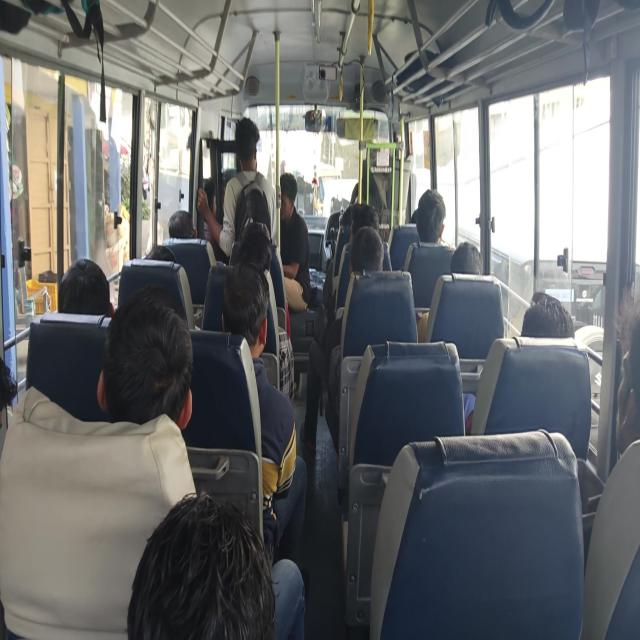person: (135, 493, 326, 640), (119, 298, 208, 429), (276, 178, 328, 282), (615, 323, 640, 490), (214, 282, 268, 350), (64, 266, 115, 338), (414, 182, 448, 270), (352, 230, 398, 276), (528, 298, 564, 354), (244, 242, 284, 292), (451, 241, 486, 297), (169, 207, 204, 259), (236, 115, 264, 174), (239, 213, 273, 261), (144, 240, 184, 278), (349, 197, 394, 230), (407, 206, 415, 224)
